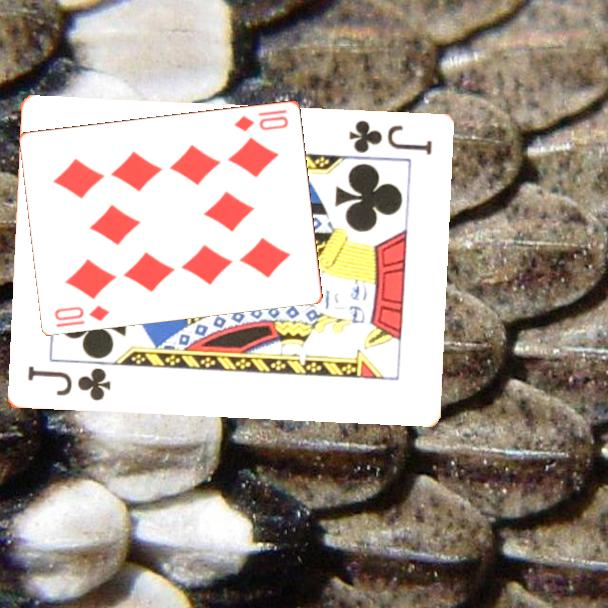c11: (23, 363, 113, 404), (345, 117, 435, 158)
d10: (51, 301, 113, 330), (231, 111, 291, 134)
